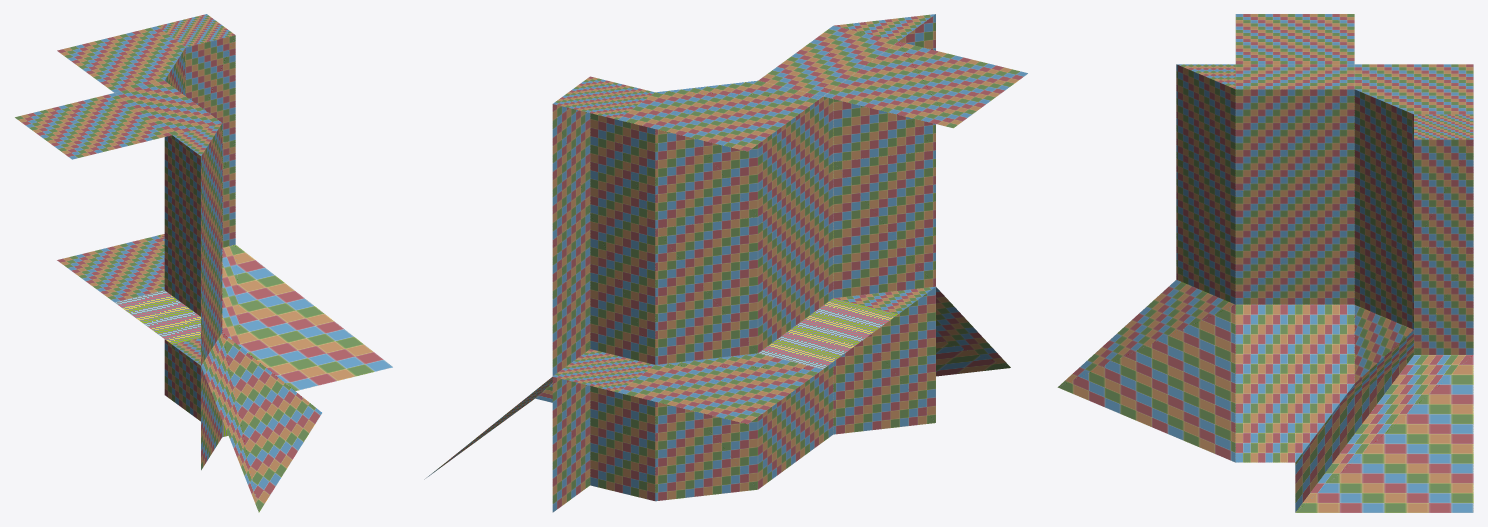
The picture shows the model from 3 angles, left to right: view 1: azimuth 30°, elevation 25°; view 2: azimuth 150°, elevation 25°; view 3: azimuth 270°, elevation 25°; orthographic projection. The views are drawn at different scales.
Visible parts, largest first — view 1: C_R_base, O_R_base, F_T_base, I_T_base, C_T_base, S_T_base, I_R_base, S_M_base, O_T_base, S_R_base, O_M_base, S_B_base (+2 smaller); view 2: I_T_base, C_M_base, I_M_base, O_M_base, C_T_base, C_B_base, O_B_base, S_M_base, S_T_base, F_T_base, I_R_base, I_B_base (+5 smaller); view 3: C_R_base, O_R_base, S_R_base, S_T_base, S_M_base, I_T_base, C_T_base, O_T_base, O_M_base, I_M_base, C_M_base, F_T_base (+1 smaller).
Boxes of the visible parts, <box> form: C_R_base: <box>157,234,392,391</box>; O_R_base: <box>172,332,321,512</box>; F_T_base: <box>15,93,171,159</box>; I_T_base: <box>57,26,185,95</box>; C_T_base: <box>157,14,235,142</box>; S_T_base: <box>115,80,221,211</box>; I_R_base: <box>57,235,164,302</box>; S_M_base: <box>164,186,200,316</box>; O_T_base: <box>172,123,222,260</box>; S_R_base: <box>115,290,228,437</box>; O_M_base: <box>201,228,222,365</box>; S_B_base: <box>164,339,200,421</box>; I_T_base: <box>618,80,822,228</box>; C_M_base: <box>552,213,655,375</box>; I_M_base: <box>655,217,757,364</box>; O_M_base: <box>833,150,935,298</box>; C_T_base: <box>552,76,655,239</box>; C_B_base: <box>552,377,655,512</box>; O_B_base: <box>833,287,935,434</box>; S_M_base: <box>758,162,833,352</box>; S_T_base: <box>758,25,897,216</box>; F_T_base: <box>823,41,1027,128</box>; I_R_base: <box>618,353,822,424</box>; I_B_base: <box>655,402,757,501</box>; C_R_base: <box>1295,330,1473,512</box>; O_R_base: <box>1057,280,1235,462</box>; S_R_base: <box>1235,304,1354,462</box>; S_T_base: <box>1235,64,1354,196</box>; S_M_base: <box>1235,197,1354,304</box>; I_T_base: <box>1354,64,1473,221</box>; C_T_base: <box>1414,114,1473,247</box>; O_T_base: <box>1176,64,1235,196</box>; O_M_base: <box>1176,172,1235,304</box>; I_M_base: <box>1354,197,1413,329</box>; C_M_base: <box>1414,247,1473,354</box>; F_T_base: <box>1235,14,1354,64</box>.
Bounding box in the file's own units: 3.5 × 3 × 3.5.
Materials: 1 (1 with a texture image).
